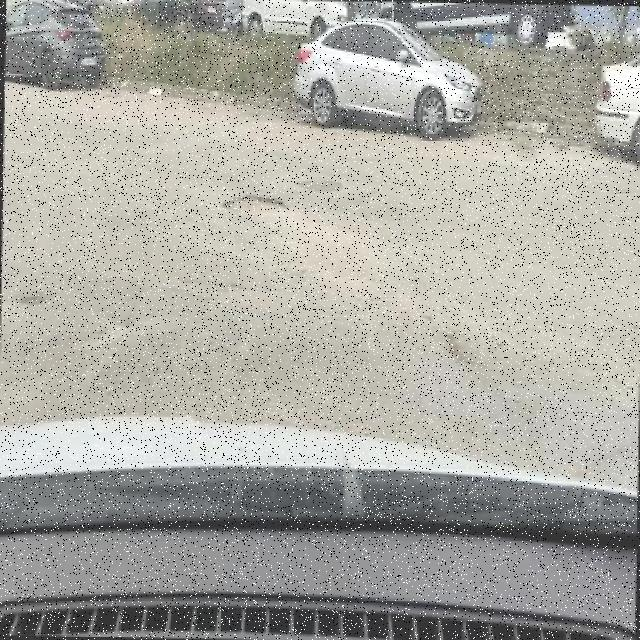Pothole: (222, 195, 291, 215)
